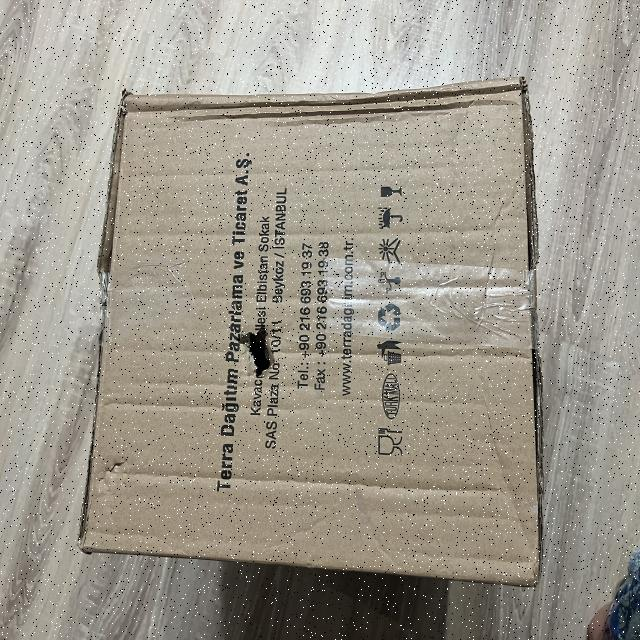damaged: (70, 61, 550, 602), (234, 307, 278, 391), (104, 454, 130, 478)
